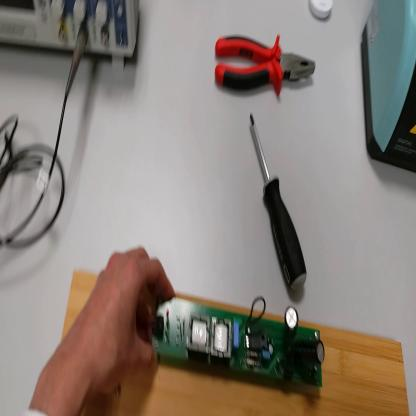hand: (72, 245, 175, 394)
high voltage board: (136, 292, 328, 397)
oscilloscope: (1, 1, 146, 77)
oscilloscope probe tip: (2, 142, 28, 191)
pliers: (211, 34, 318, 98)
screwdriver-: (250, 112, 309, 298)
welder station: (359, 5, 416, 175)
working area: (61, 258, 410, 416)
